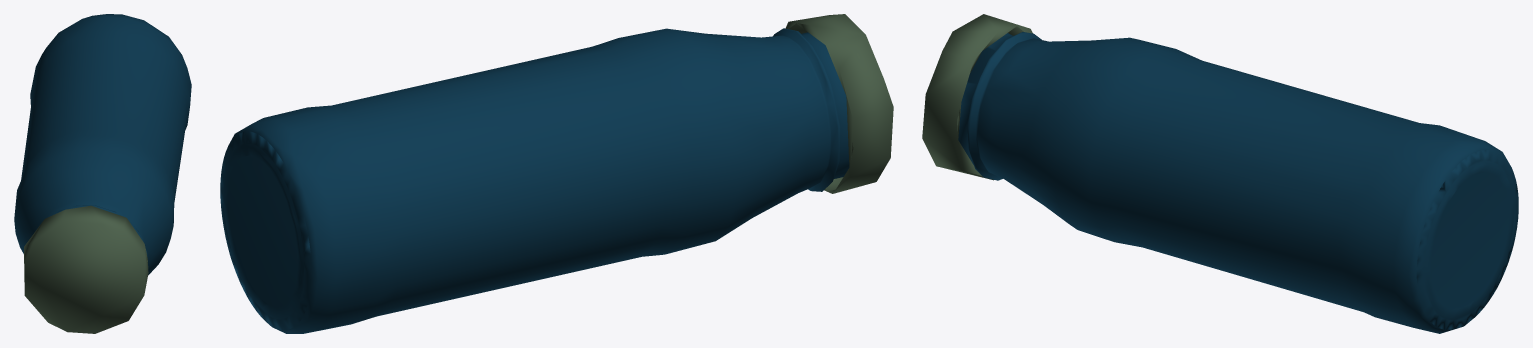
The model's file is Botella.glb.
3 views of the same model, side by side, from view 1: azimuth 30°, elevation 25°; view 2: azimuth 150°, elevation 25°; view 3: azimuth 270°, elevation 25° (orthographic). The views are drawn at different scales.
Parts seen in each view (by area): view 1: Circle.023, Circle.022; view 2: Circle.023, Circle.022; view 3: Circle.023, Circle.022.
Boxes of the visible parts, x1,y1,x2,y2 form: Circle.023: [14, 14, 191, 275]; Circle.022: [24, 205, 148, 333]; Circle.023: [220, 28, 849, 333]; Circle.022: [785, 14, 893, 193]; Circle.023: [958, 32, 1518, 333]; Circle.022: [922, 14, 1032, 180].
Bounding box in the file's own units: 1.37 × 0.598 × 1.73.
